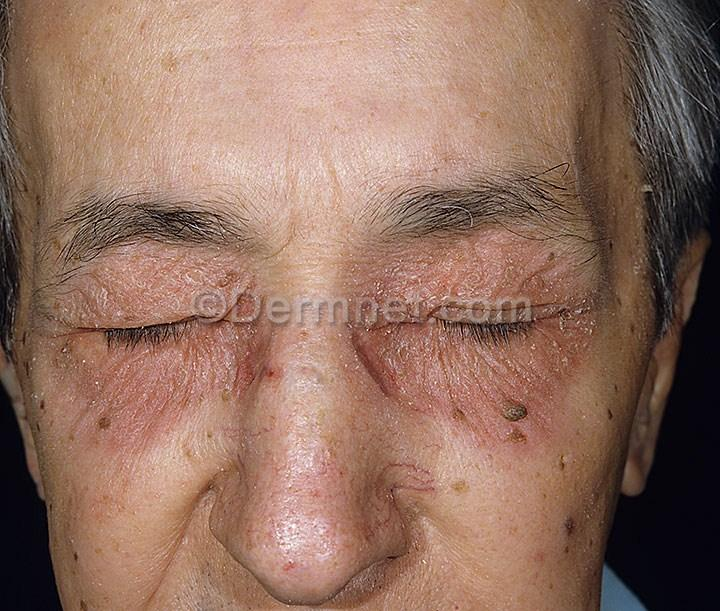Eczema: (354, 327, 616, 464), (58, 340, 294, 453), (63, 247, 277, 322), (356, 241, 599, 303)
